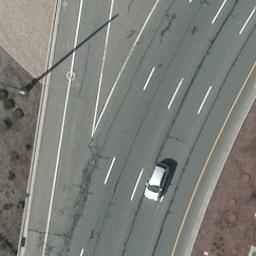car: (140, 163, 171, 204)
